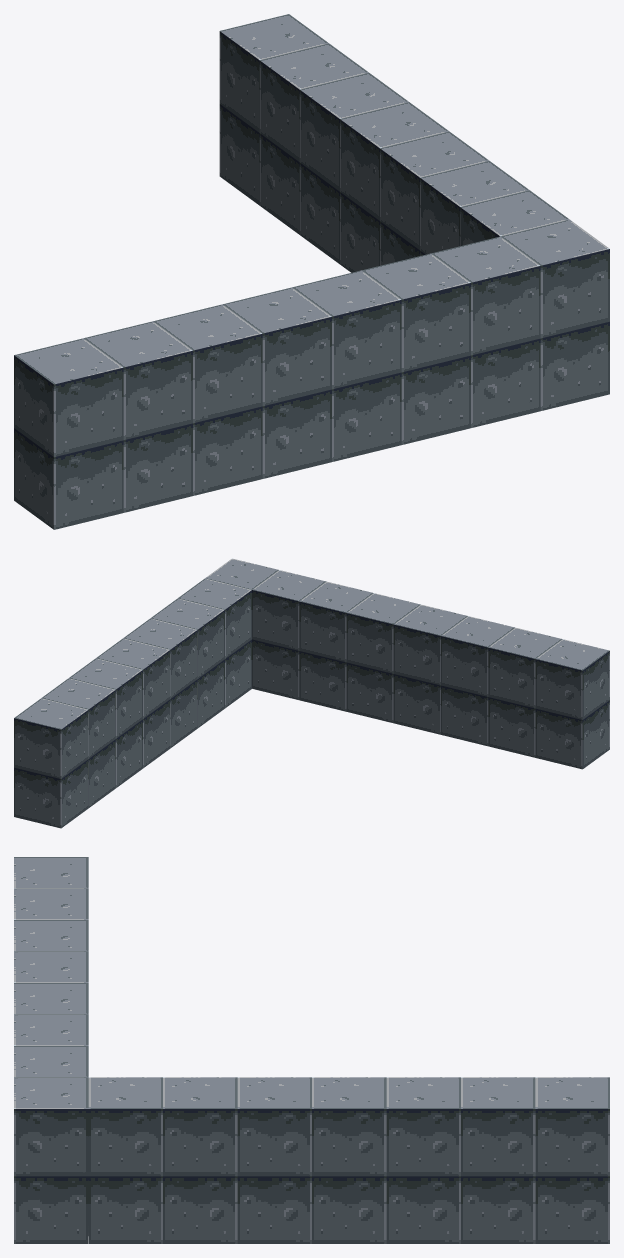
File: wall_corner8x2.fbx
3 renders of one model, top to bottom at view 1: azimuth 30°, elevation 25°; view 2: azimuth 150°, elevation 25°; view 3: azimuth 270°, elevation 25°, orthographic. The views are drawn at different scales.
Visible parts, largest first — view 1: corner; view 2: corner; view 3: corner.
Boxes of the visible parts, x1,y1,x2,y2 form: corner: (14,14,609,529); corner: (14,558,609,828); corner: (14,857,609,1243).
Size of the model in its own units: 800 by 200 by 800.
